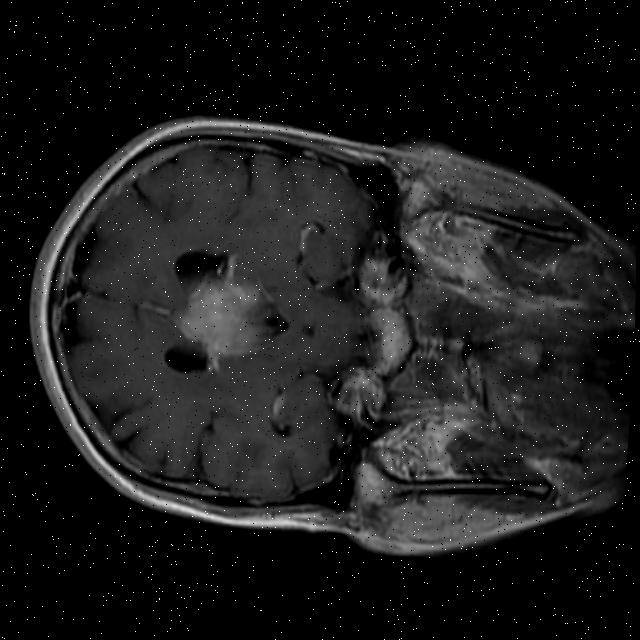Meningioma: (171, 274, 270, 360)
Pituitary: (370, 303, 417, 376)
